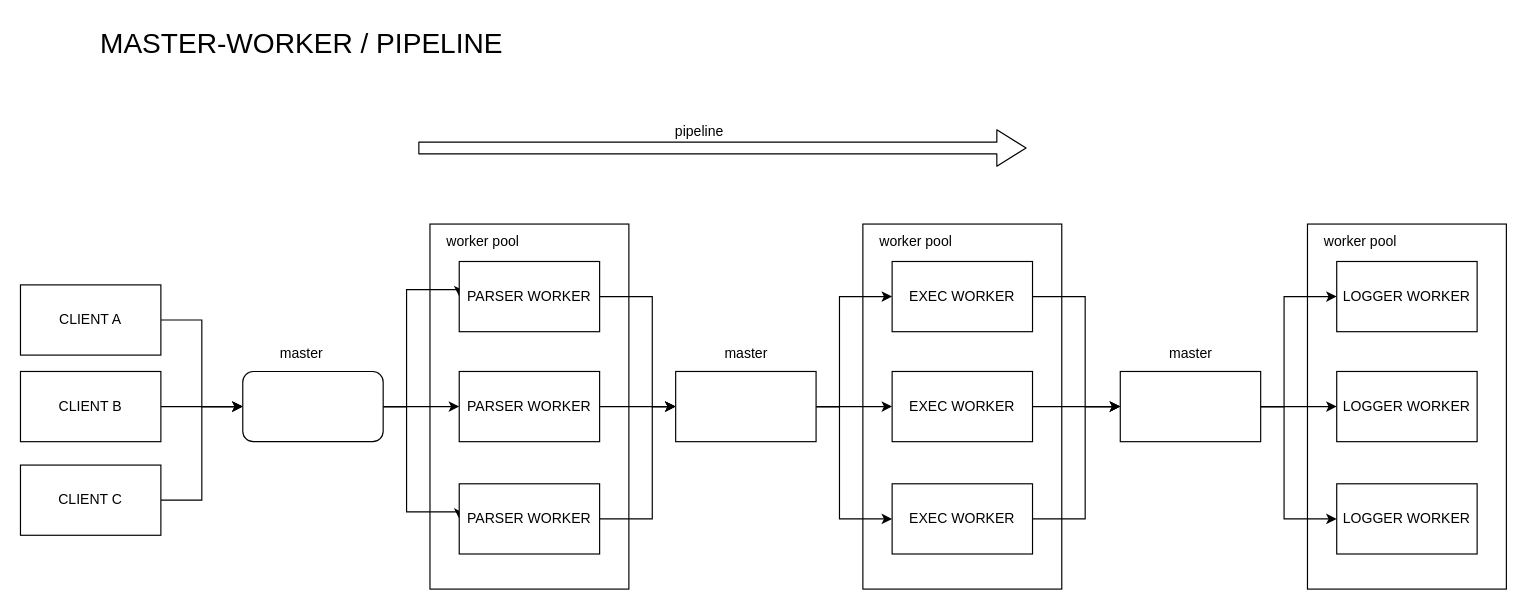
The diagram is 1527 pixels wide and 610 high, and some of its shapes have lost their labels. Each missing label, with the centre of its shape:
"EXEC QUEUE" belongs at [745,406].
"LOGGER QUEUE" belongs at [1190,406].
"PARSE QUEUE" belongs at [312,406].
